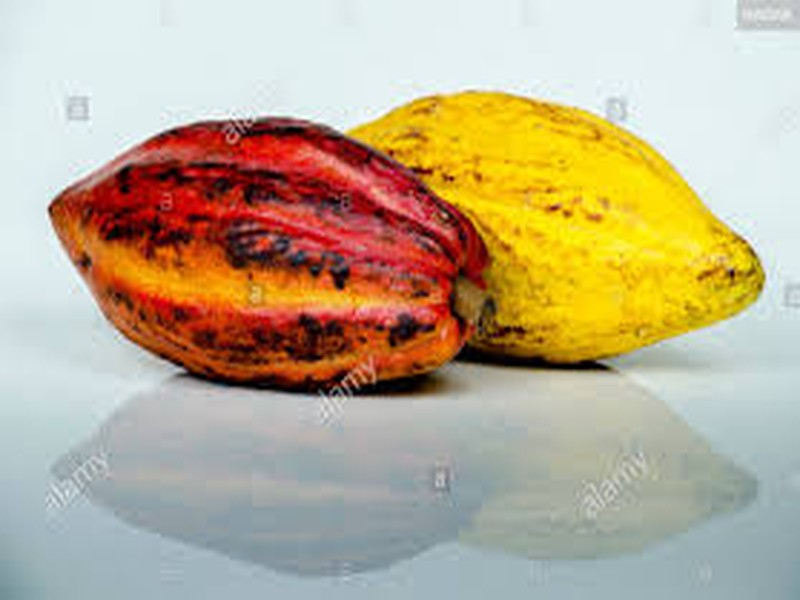Cacaopod: (49, 117, 492, 392)
